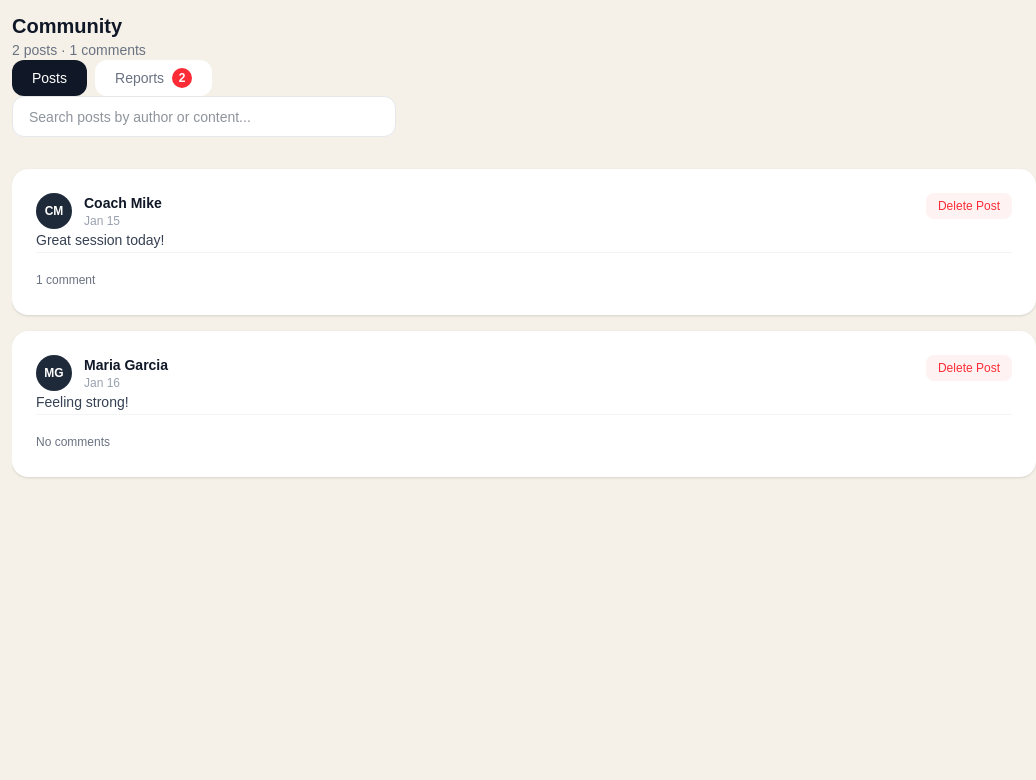
Test case: Admin Community Page › expands comments when toggle is clicked
Check: the text "Coach Mike" is shown, box [84,193,162,213]
Note: click the toggle button (last element with "1 comment" text, which is the button)
Click the button "1 comment".
click(66, 280)  # box [36,272,95,288]
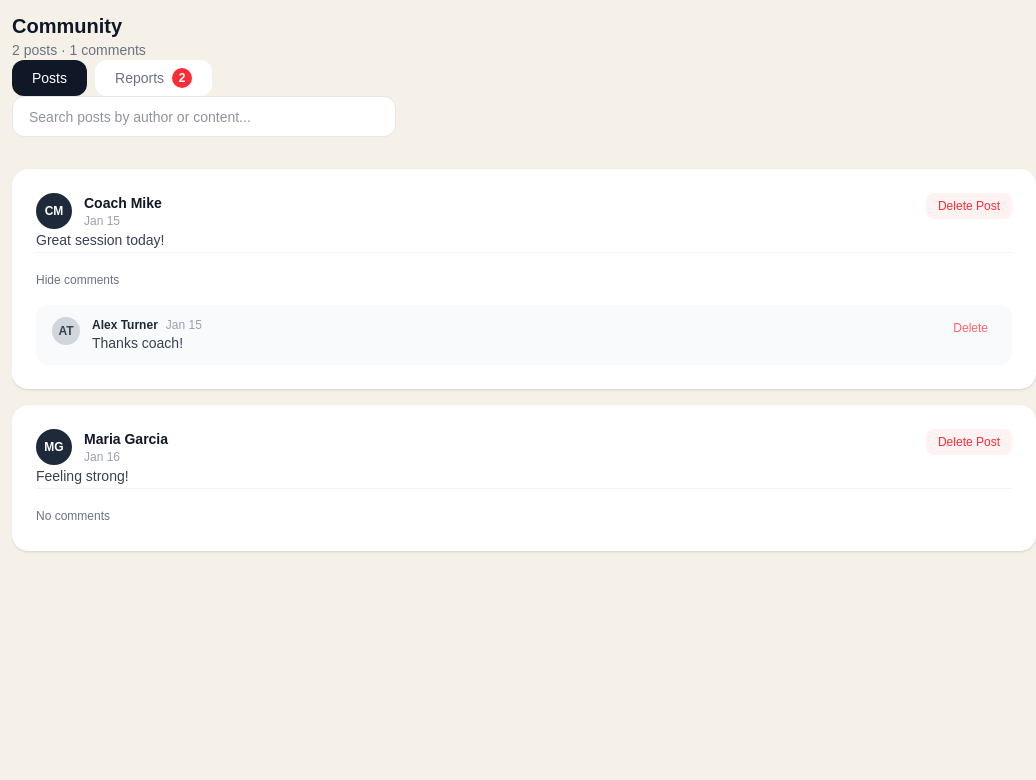
Check: the text "Thanks coach!" is shown, box [92,335,183,351]
